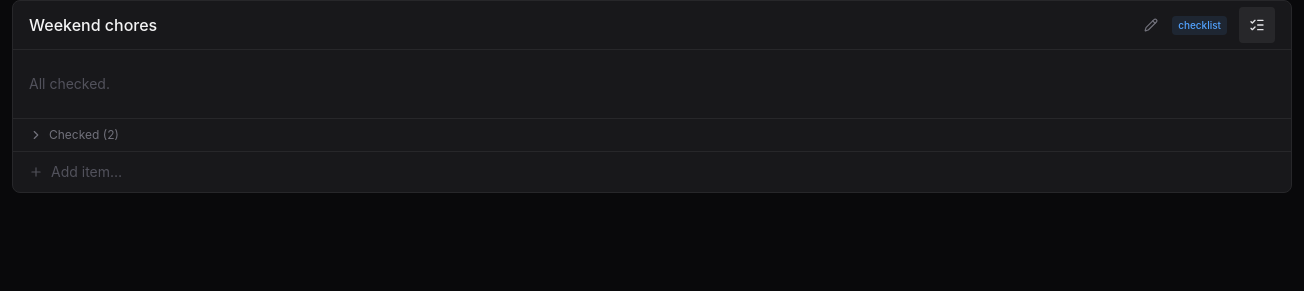
ListDetailPage checked pile › keeps the footprint reserved once too few items are left to sort
Click the button "Checked (2)": (78, 134) left=13, top=118, right=1291, bottom=151
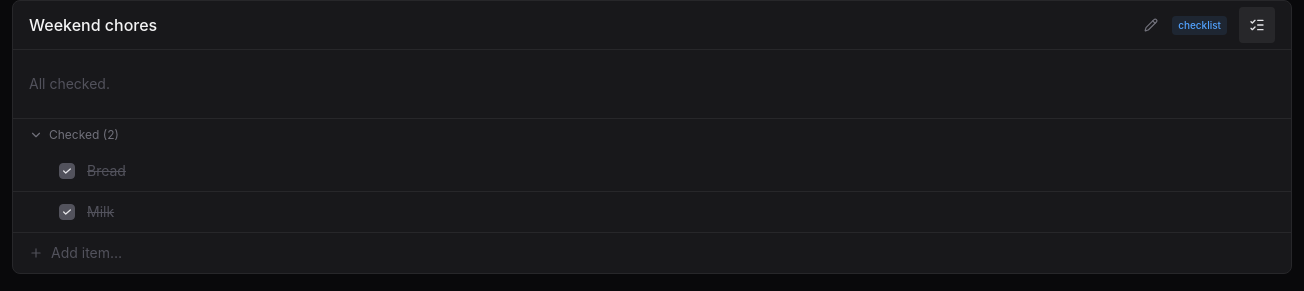
Expected: the text "All checked." is shown, left=29, top=75, right=110, bottom=92
Expected: the list item "Milk" is shown, left=59, top=202, right=1185, bottom=222
